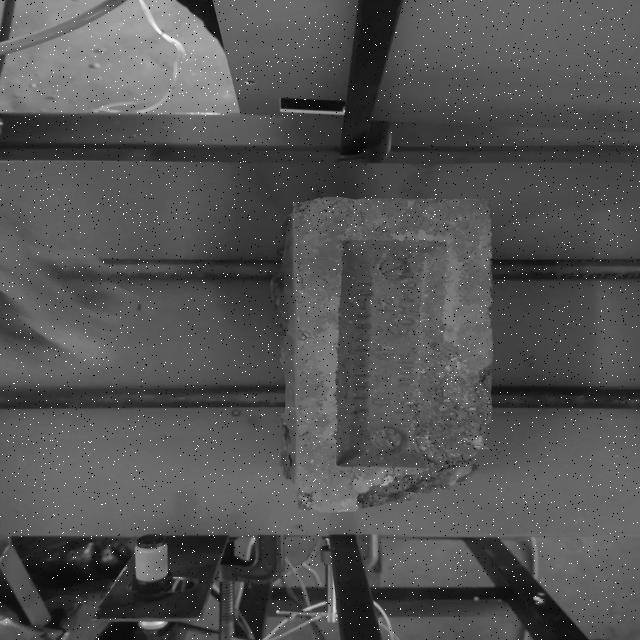bricks_ruin: (267, 197, 496, 511)
